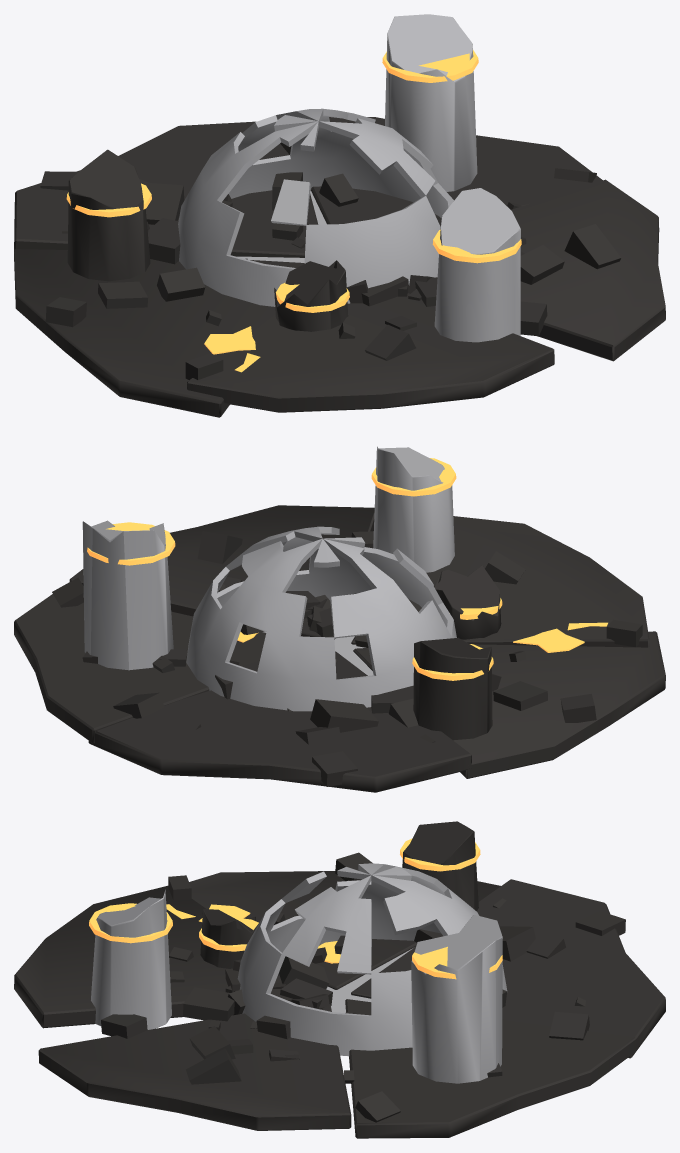
File: city_ruins.glb
3 renders of one model, top to bottom at view 1: azimuth 30°, elevation 25°; view 2: azimuth 150°, elevation 25°; view 3: azimuth 270°, elevation 25°, orthographic. The views are drawn at different scales.
Parts seen in each view (by area): view 1: CityRuins; view 2: CityRuins; view 3: CityRuins.
Boxes of the visible parts, left/top/right/bottom form: CityRuins: left=14, top=14, right=665, bottom=417; CityRuins: left=14, top=446, right=665, bottom=792; CityRuins: left=14, top=821, right=665, bottom=1138.
Size of the model in its own units: 35.8 by 10.46 by 37.96.
